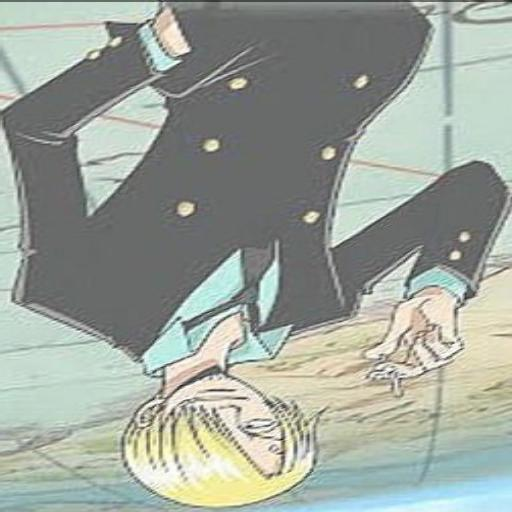sanji: (2, 2, 506, 512)
